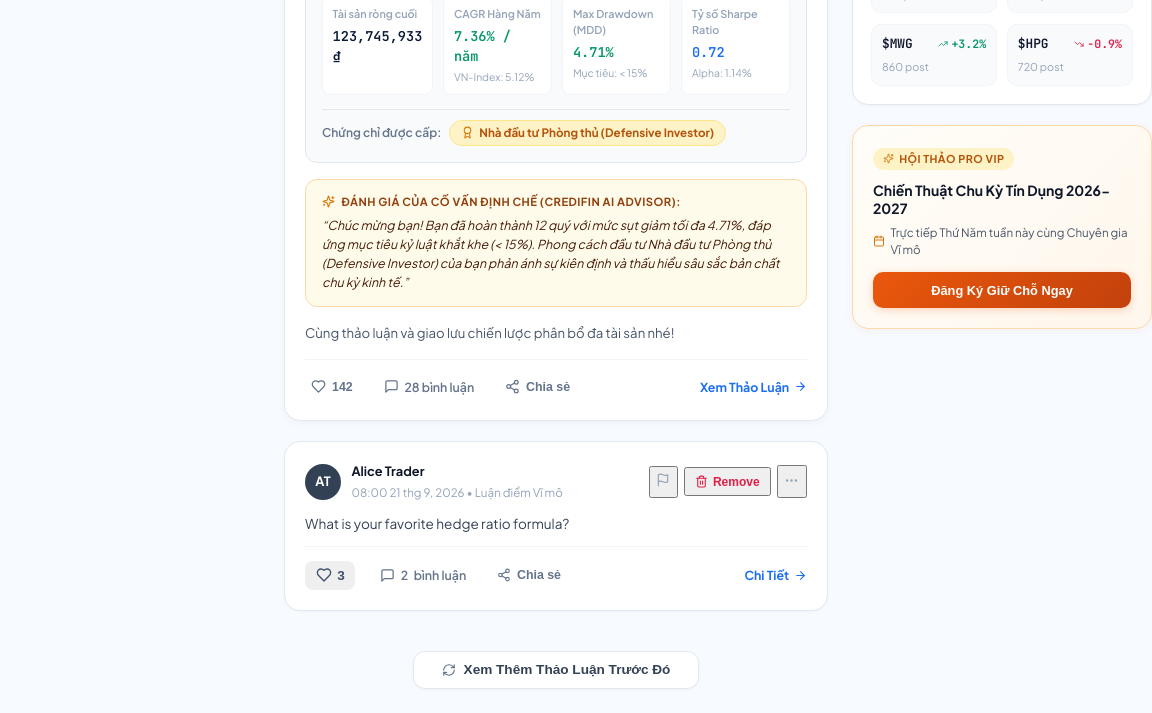
it: CommunityFeedPage (Component & State - AC-001..AC-028) › handles explicit Load More pagination when hasNextPage is true (AC-010, AC-021)
(page scrolled)
Expected: the element with test id "community-post-card-p-1111" is shown, top-left (284, 441), bottom-right (828, 611)
Step 1. Click the button with test id "feed-load-more-btn" → (556, 670), box top-left (413, 651), bottom-right (699, 689)
(page scrolled)
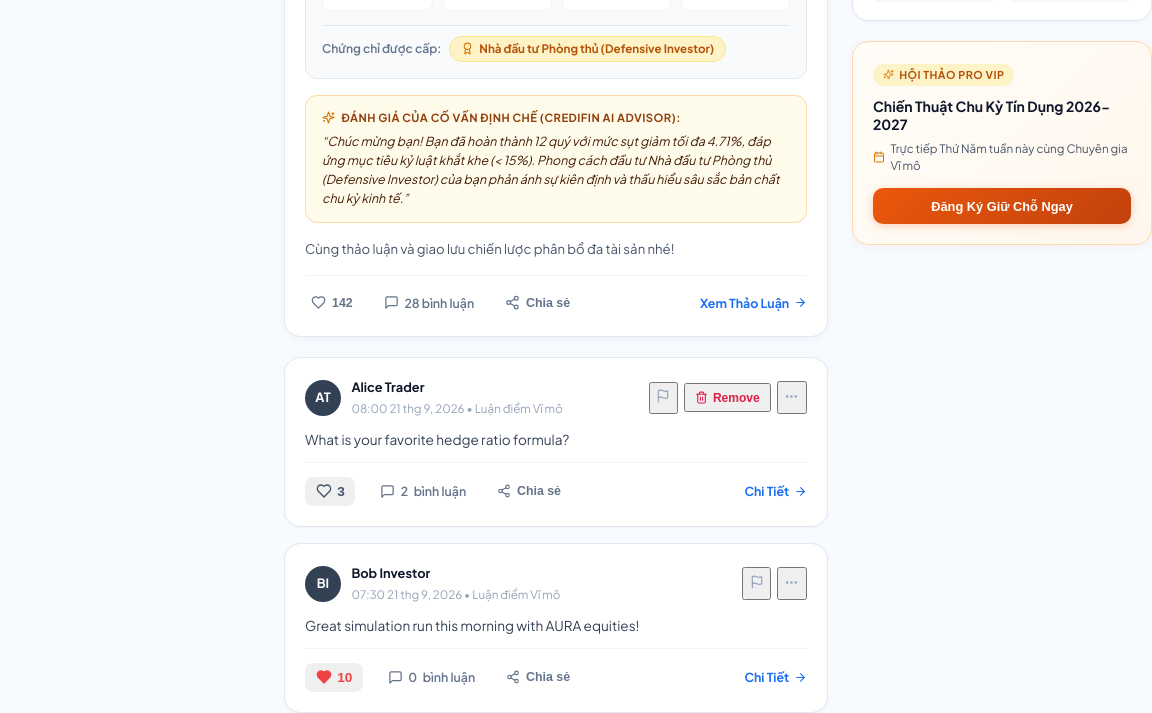
Result: the element with test id "community-post-card-p-2222" is shown at top-left (284, 543), bottom-right (828, 712)
Result: the button with test id "feed-load-more-btn" is gone
